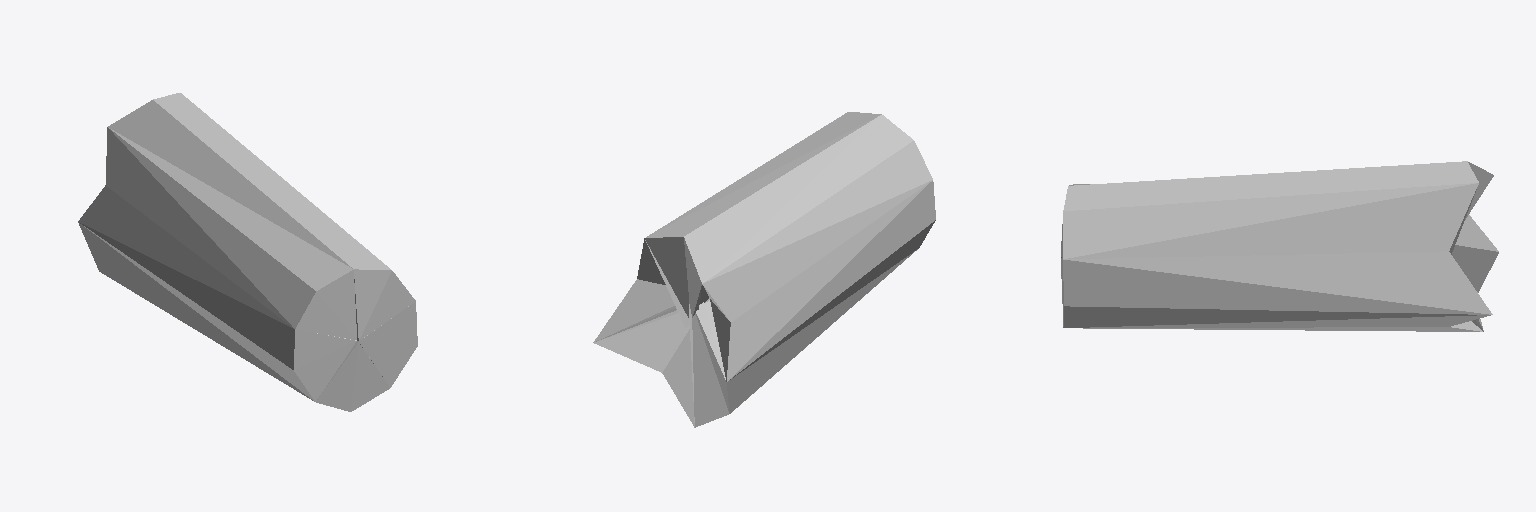
The model's file is TreeTrunk3-90.obj.
The picture shows the model from 3 angles: view 1: azimuth 30°, elevation 25°; view 2: azimuth 150°, elevation 25°; view 3: azimuth 270°, elevation 25°; orthographic projection.
Visible parts, largest first — view 1: Tree; view 2: Tree; view 3: Tree.
Part boxes in pixels (left/top/right/bottom): Tree: left=78, top=93, right=417, bottom=411; Tree: left=593, top=112, right=935, bottom=427; Tree: left=1061, top=161, right=1498, bottom=331.
Bounding box in the file's own units: 0.3345 × 0.4217 × 0.9302.